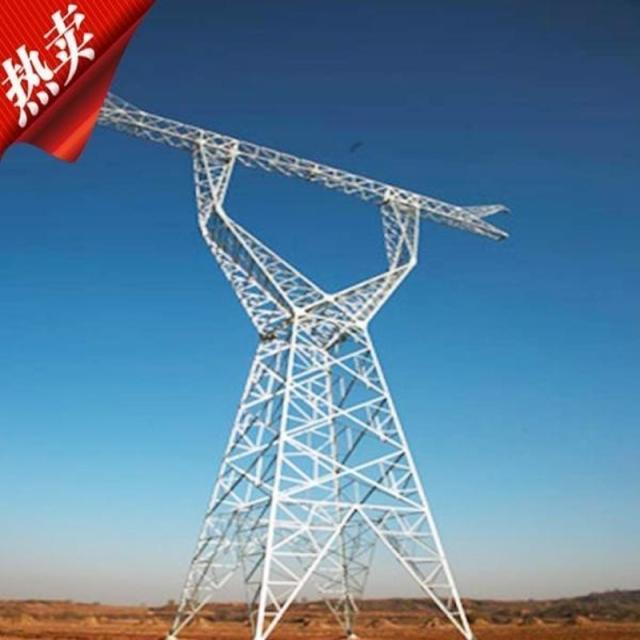non-critical vegetation: (107, 84, 497, 632)
